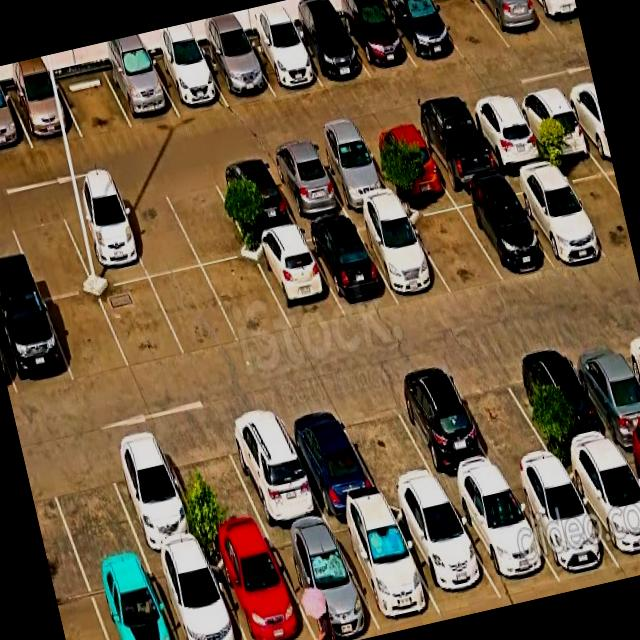car: (328, 505, 443, 634), (387, 368, 503, 491), (265, 521, 381, 640), (388, 494, 502, 613), (505, 465, 620, 582), (447, 478, 560, 597), (219, 405, 325, 531), (101, 434, 204, 558), (276, 398, 382, 516), (514, 340, 618, 460), (205, 534, 315, 640), (504, 166, 607, 265), (562, 448, 640, 574), (451, 184, 552, 279), (250, 230, 344, 331), (301, 218, 397, 316), (351, 208, 451, 301), (147, 547, 245, 640), (563, 331, 640, 446), (58, 193, 148, 288), (85, 560, 176, 640), (0, 297, 73, 396), (411, 110, 501, 189), (211, 157, 297, 238), (263, 146, 348, 224), (310, 135, 395, 211), (361, 123, 448, 196), (465, 96, 548, 171), (512, 85, 594, 158), (338, 3, 416, 78), (291, 17, 370, 86), (382, 0, 463, 67), (103, 58, 180, 127), (150, 50, 228, 117), (8, 78, 82, 148), (244, 31, 322, 95), (201, 41, 274, 106), (477, 0, 555, 47), (0, 89, 32, 155), (529, 0, 582, 36)
free: (448, 355, 558, 476), (160, 424, 267, 545), (333, 384, 443, 501), (43, 446, 144, 573), (402, 196, 503, 293), (161, 169, 251, 266), (113, 183, 200, 277), (7, 204, 93, 299), (555, 155, 633, 257), (150, 267, 239, 356), (98, 278, 185, 369), (44, 291, 129, 382), (203, 256, 292, 342), (56, 68, 132, 137), (427, 0, 510, 60)
